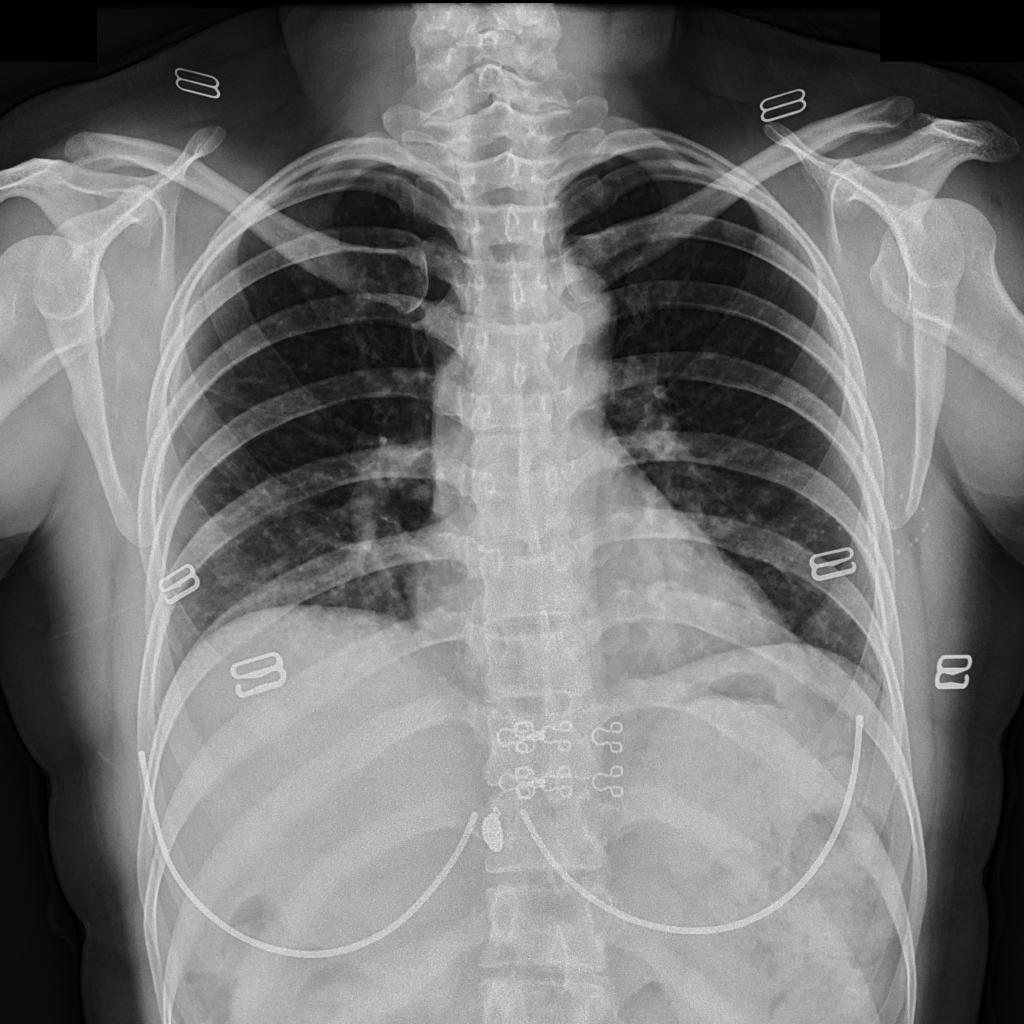Nodule: (720, 197, 760, 247)
